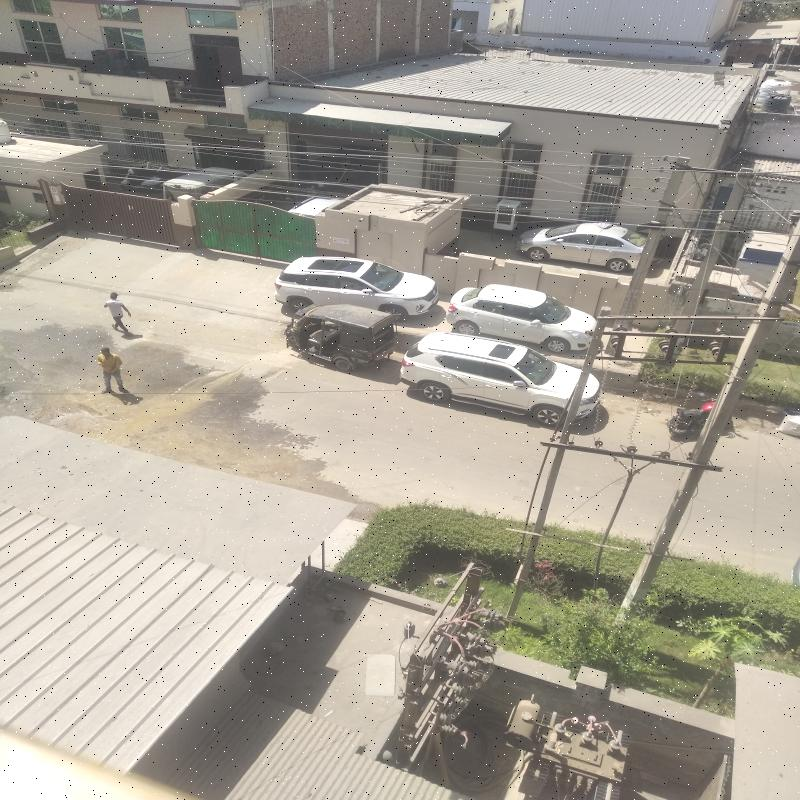auto: (288, 310, 386, 369)
